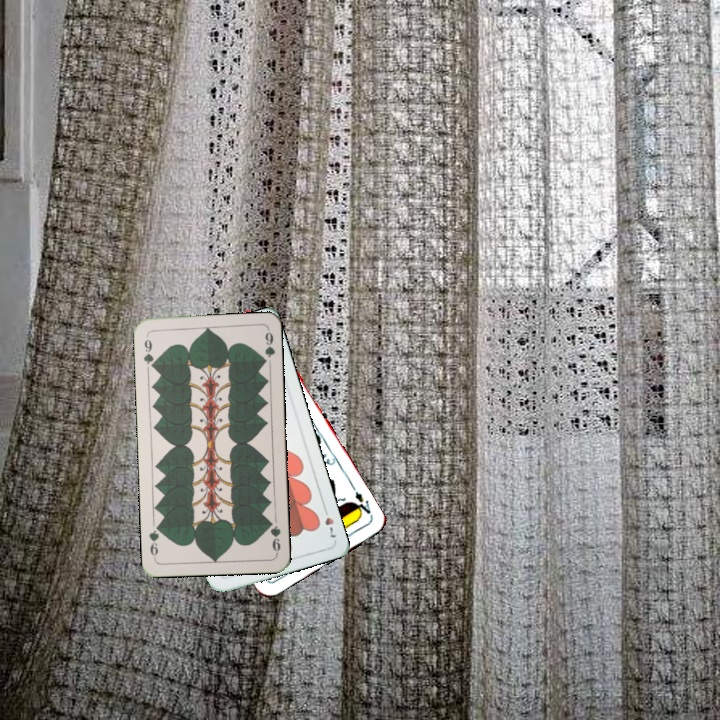EA: (348, 487, 375, 519)
G9: (264, 516, 283, 556), (139, 335, 157, 372)
H7: (319, 502, 339, 540)
